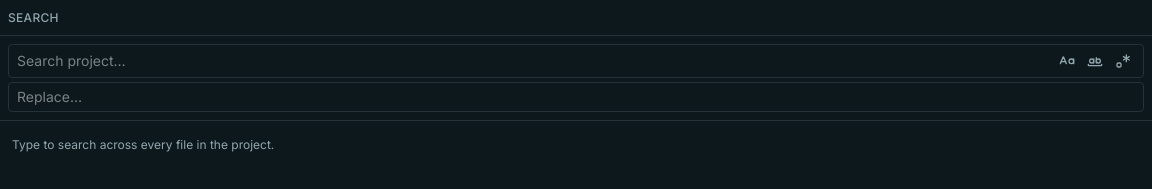
Test: SearchView › renders an inline error for an invalid regex
Click the button named "regular expression": (1123, 61) 1111,49 -> 1135,73
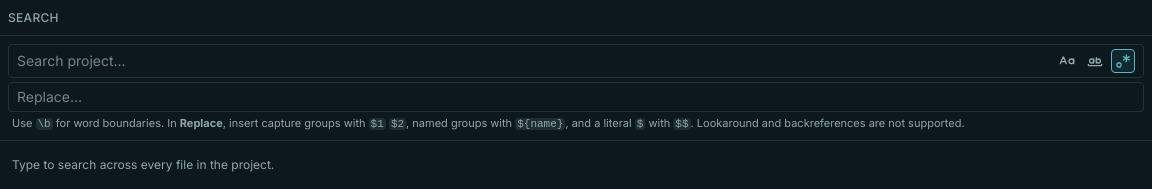
In the field named "Search query": (534, 61) 17,51 -> 1051,71, type "(bad"
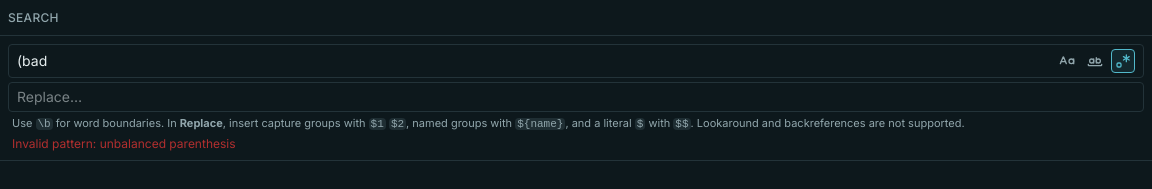
Expected: the message shows "Invalid pattern", 12,136 -> 236,151
